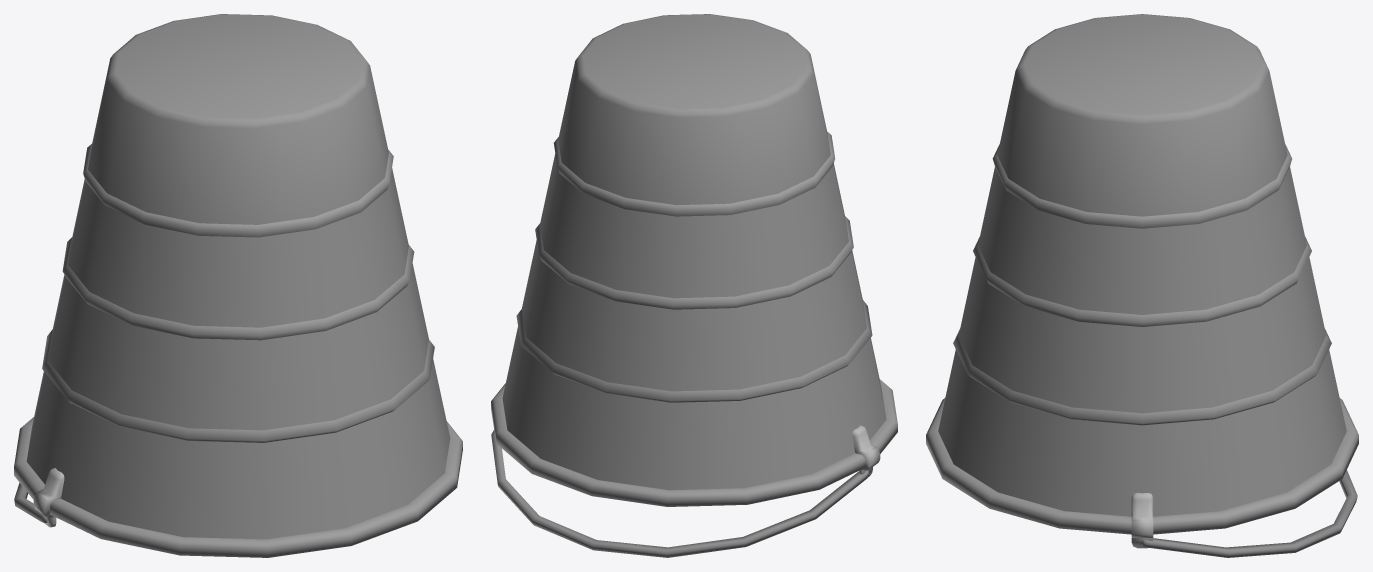
File: bucket.fbx
The picture shows the model from 3 angles, left to right: view 1: azimuth 30°, elevation 25°; view 2: azimuth 150°, elevation 25°; view 3: azimuth 270°, elevation 25°; orthographic projection. The views are drawn at different scales.
Visible parts, largest first — view 1: Circle.001, Cube.001; view 2: Circle.001, Circle.002, Cube.001; view 3: Circle.001, Circle.002, Cube.001.
Part boxes in pixels (x1,y1,x2,y2): Circle.001: (14,14,462,557); Cube.001: (33,468,64,527); Circle.001: (491,14,897,506); Circle.002: (491,429,869,557); Cube.001: (852,425,880,476); Circle.001: (926,14,1358,534); Circle.002: (1141,470,1357,557); Cube.001: (1131,493,1153,548).
Bounding box in the file's own units: 6.31 × 6.92 × 6.2.
